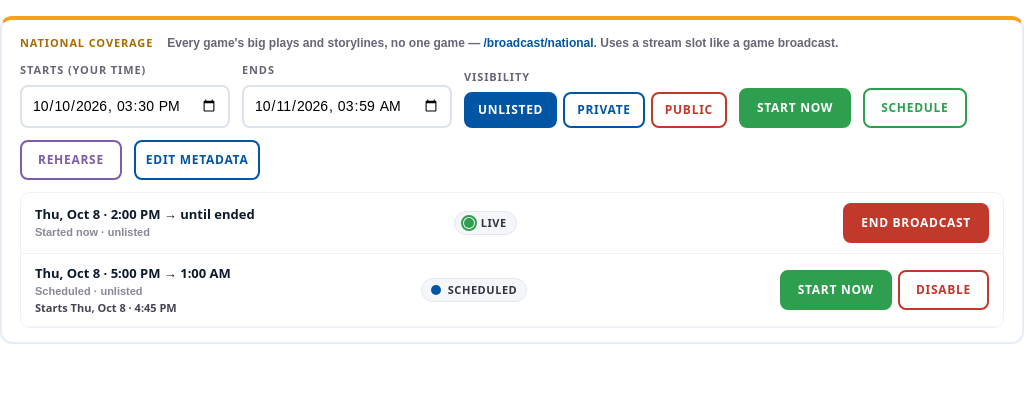
it: National Coverage › each broadcast is its own row; a waiting window can Start Now; an open-ended one runs until ended
Expected: the text "Thu, Oct 8 · 2:00 PM → until ended" is shown, [35, 204, 255, 222]
Click the button "Start Now" in the row of "Thu, Oct 8 · 5:00 PM → 1:00 AM": (836, 290) [780, 270, 892, 310]
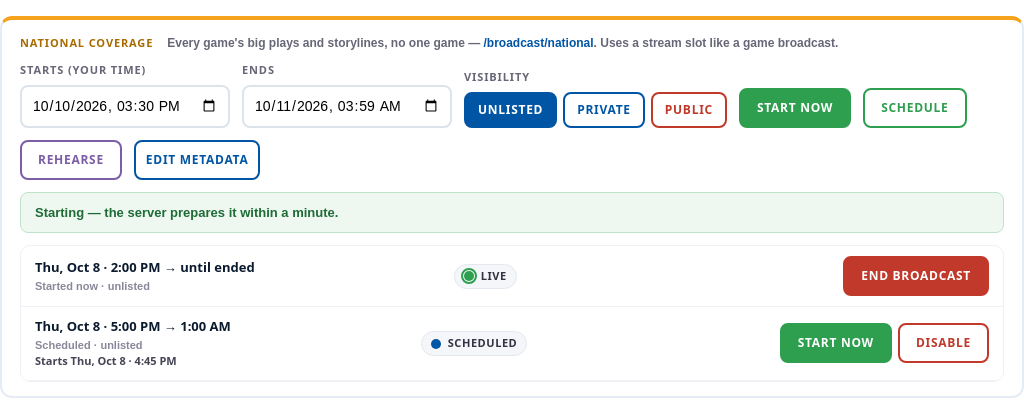
Now the text "Starting — the server prepares it within a minute." is shown, box [20, 192, 1004, 233]
